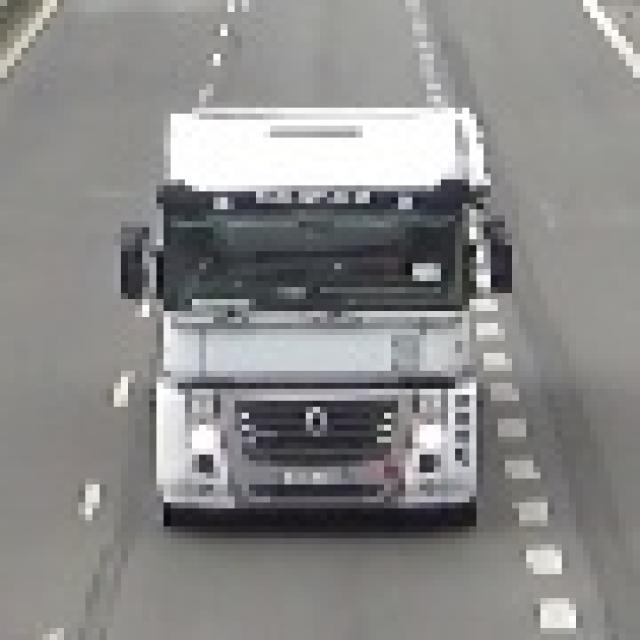TRUCK: (121, 108, 515, 533)
